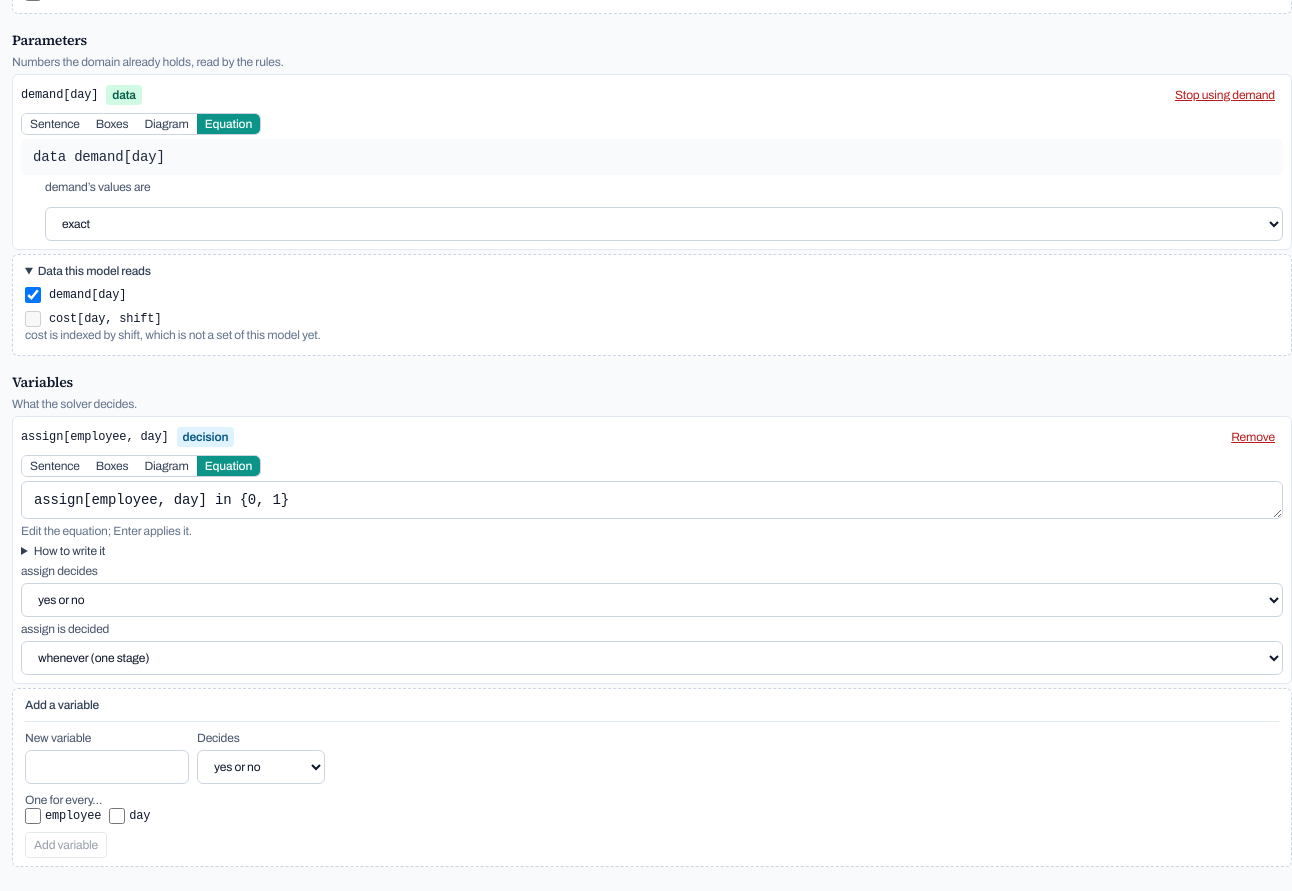
Scenario: DeclarationsEditor › refuses a name already taken by a parameter
(page scrolled)
Type "demand" into the field labelled "New variable" at (107, 767), box [25, 750, 189, 784]
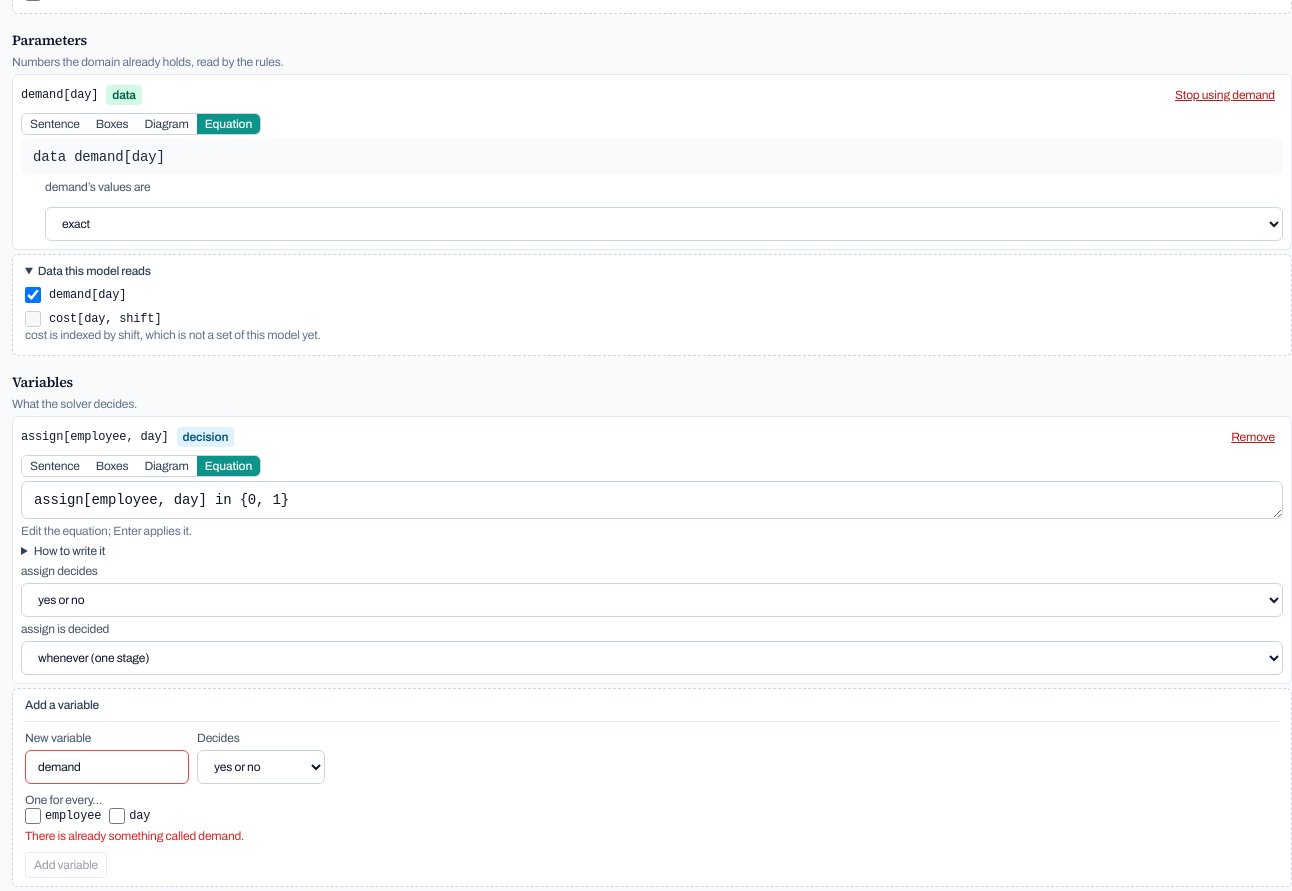
Result: the message shows "already something called demand" at [25, 829, 244, 843]
